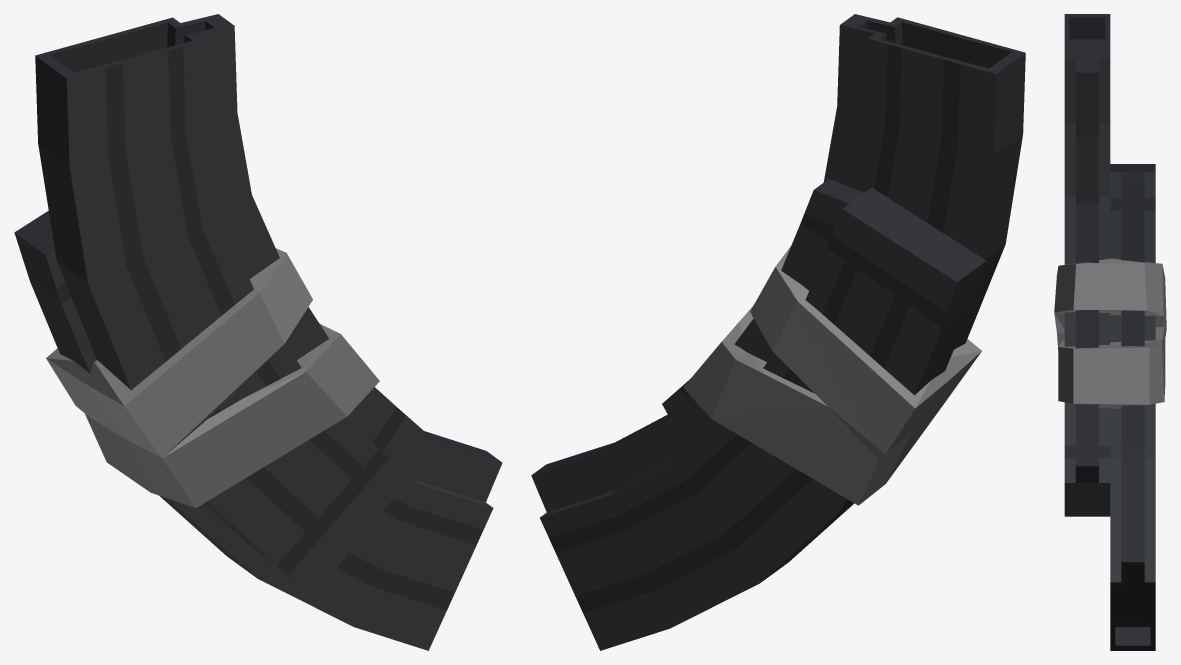
Rendered from apoc_SM_Wep_Mod_Loader_04_Magazine.gltf.
3 renders of one model, left to right at view 1: azimuth 30°, elevation 25°; view 2: azimuth 150°, elevation 25°; view 3: azimuth 270°, elevation 25°, orthographic. The views are drawn at different scales.
Parts seen in each view (by area): view 1: SM_Wep_Mod_Loader_04_Magazine; view 2: SM_Wep_Mod_Loader_04_Magazine; view 3: SM_Wep_Mod_Loader_04_Magazine.
Part boxes in pixels (left/top/right/bottom): SM_Wep_Mod_Loader_04_Magazine: left=14, top=14, right=502, bottom=650; SM_Wep_Mod_Loader_04_Magazine: left=531, top=14, right=1025, bottom=650; SM_Wep_Mod_Loader_04_Magazine: left=1054, top=14, right=1166, bottom=650.
Bounding box in the file's own units: 0.1718 × 0.2405 × 0.0489.
1 material, 1 textured.
